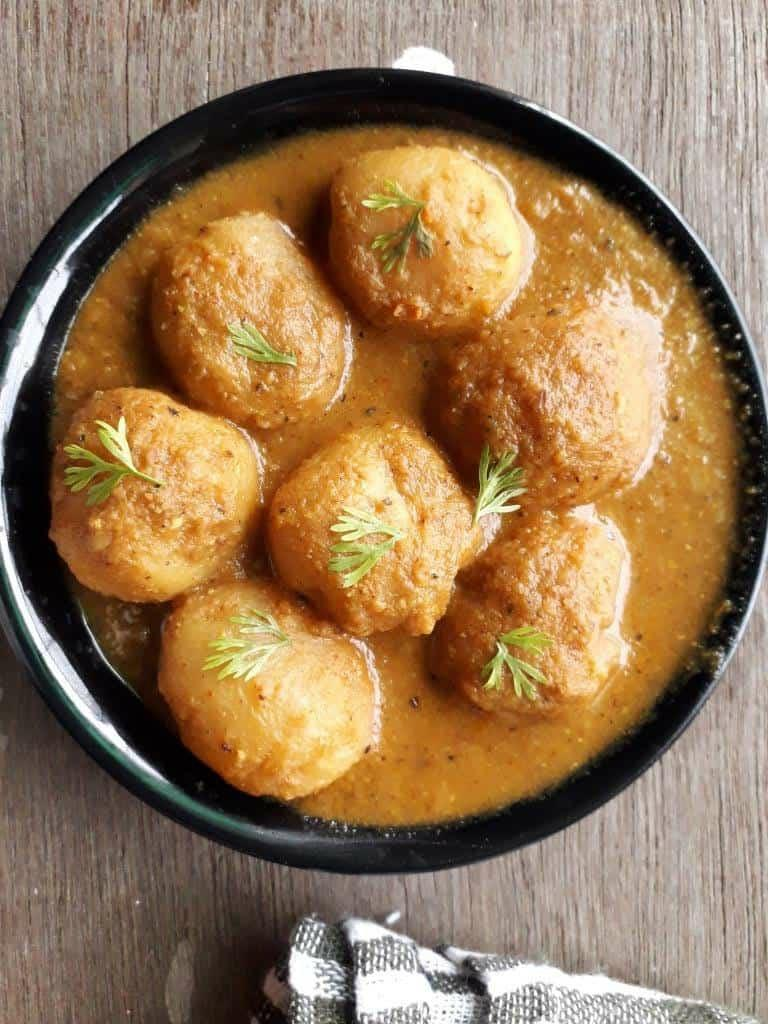DumAloo: (45, 124, 743, 828)
